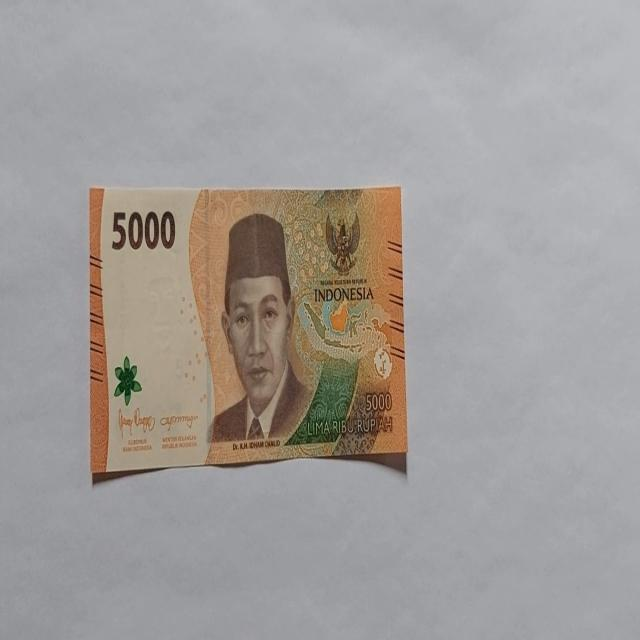lima ribu rupiah: (89, 183, 408, 482), (206, 212, 314, 446)
